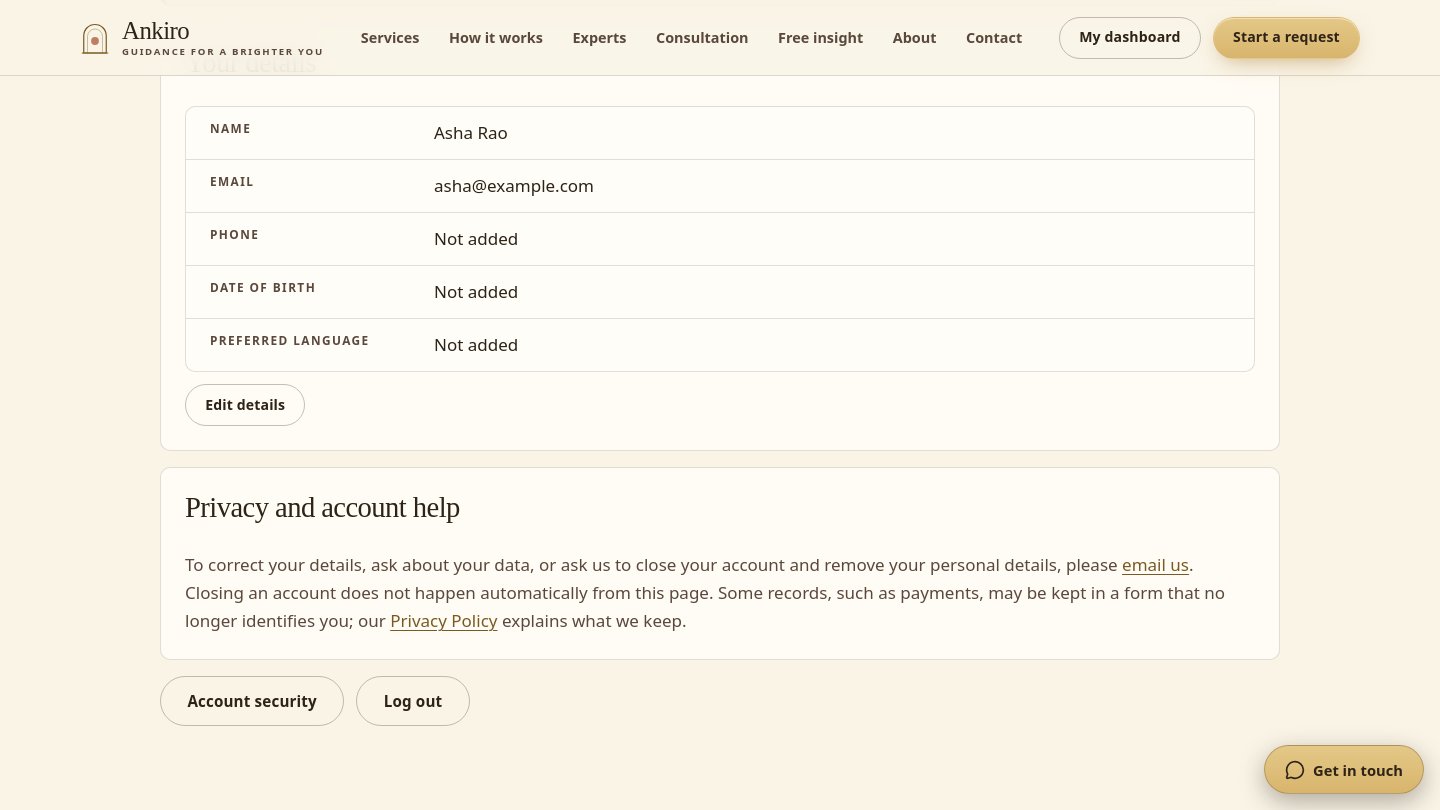
Test case: customer dashboard and data isolation › refuses an invalid phone number without contacting the service
(page scrolled)
Click the button "Edit details".
click(245, 405)  # box [185,384,305,426]
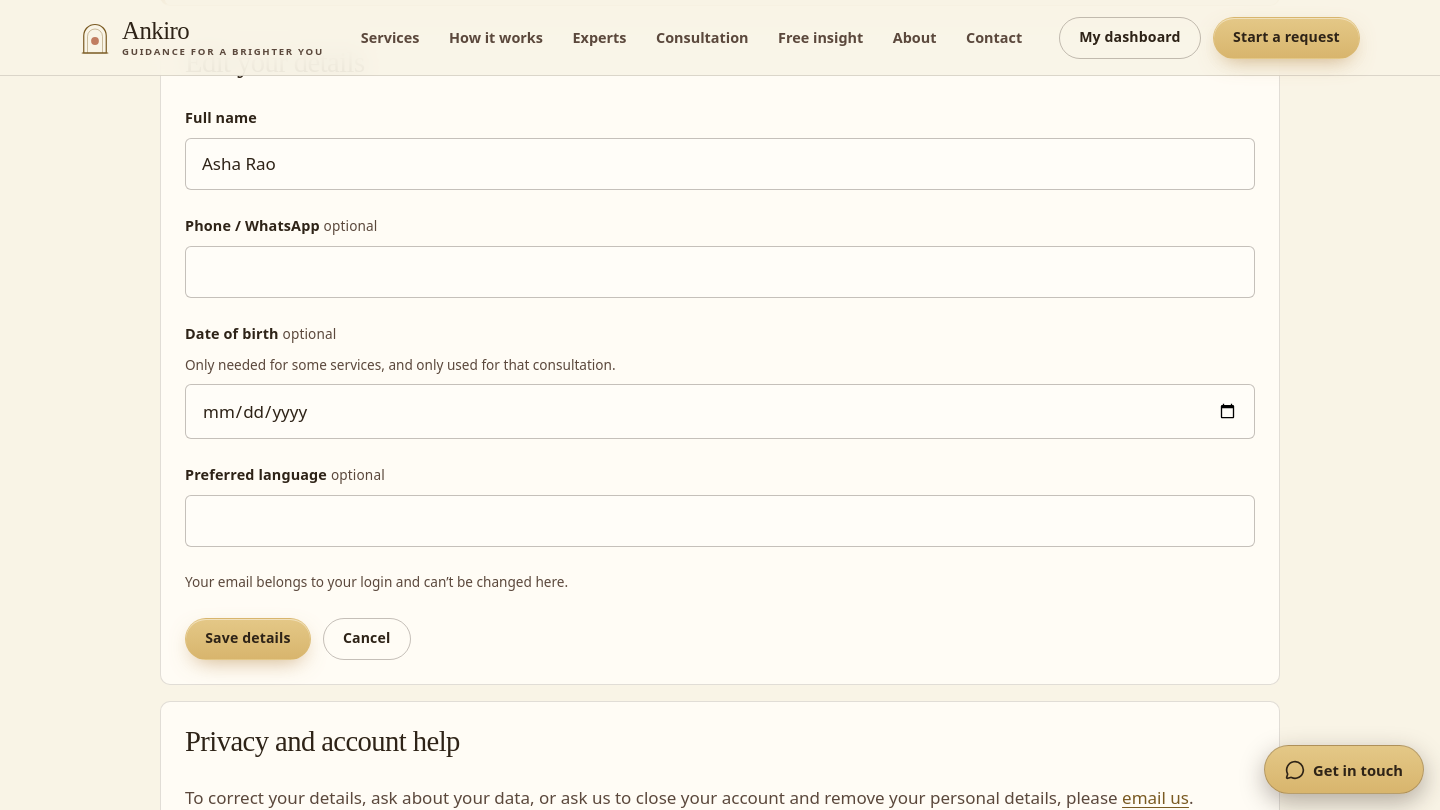
Type "abc" into the field labelled "Phone / WhatsApp optional".
click(720, 272); type("abc")  # box [185,246,1255,298]
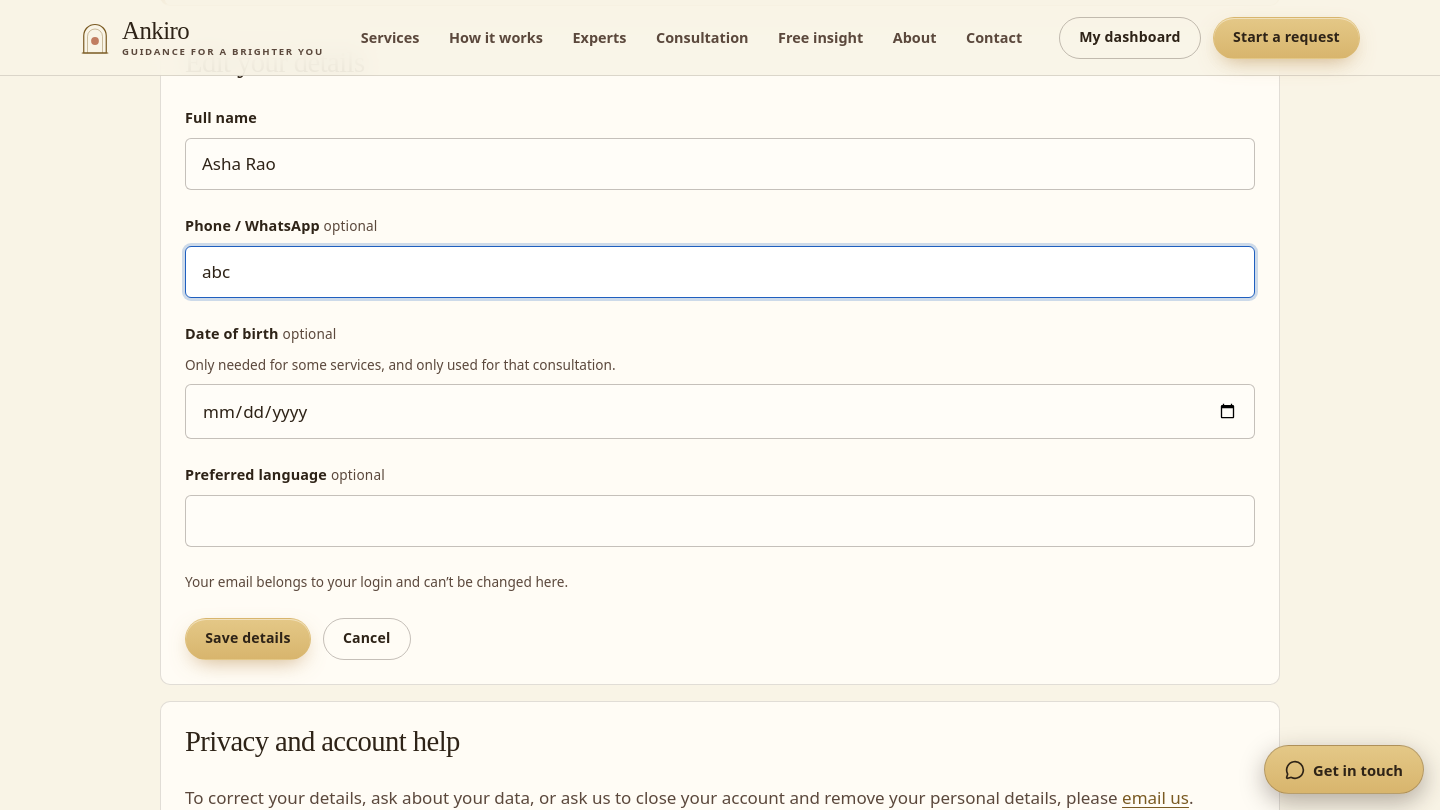
Click the button "Save details".
click(248, 638)  # box [185,618,311,660]
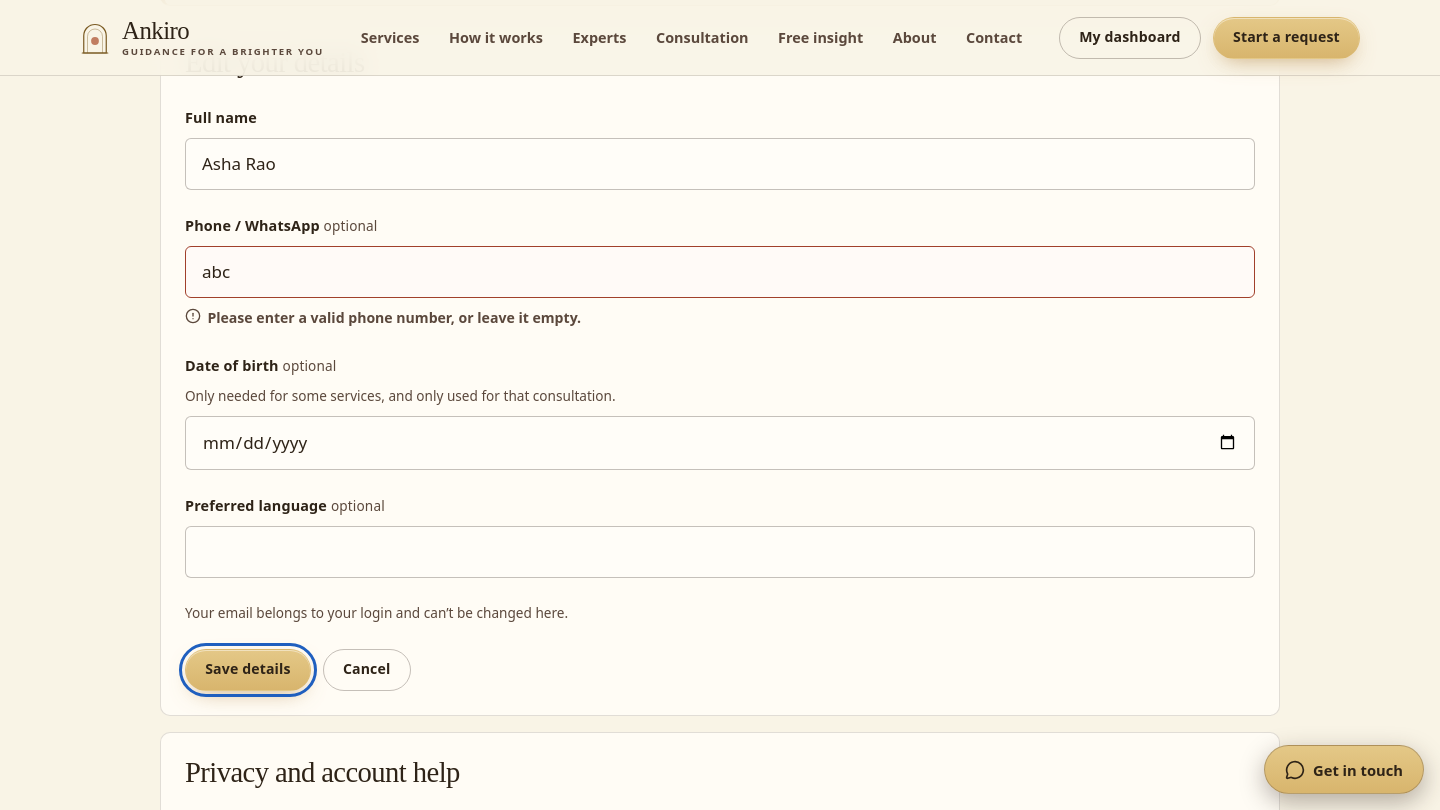
Now the text "Please enter a valid phone number, or leave it empty." is shown, box [207,306,581,330]
